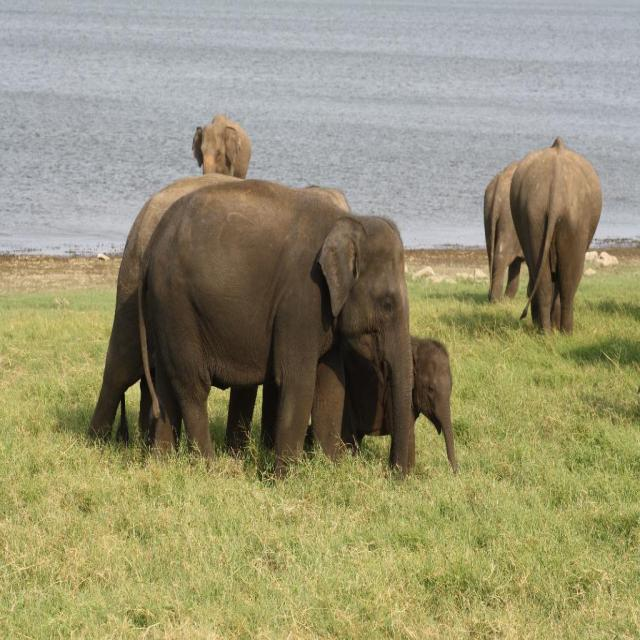elephant: (80, 182, 348, 447), (515, 132, 600, 333), (349, 342, 459, 472), (486, 165, 528, 307), (191, 117, 252, 170)
